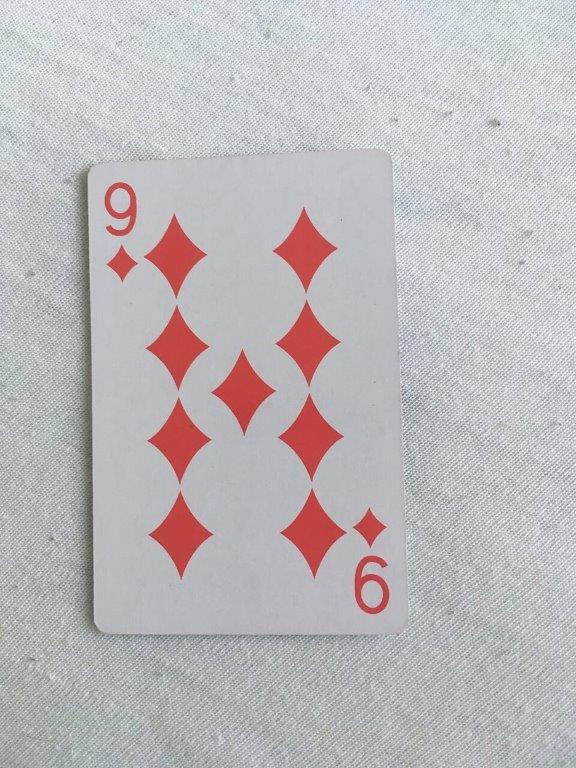9D: (84, 146, 415, 639)
